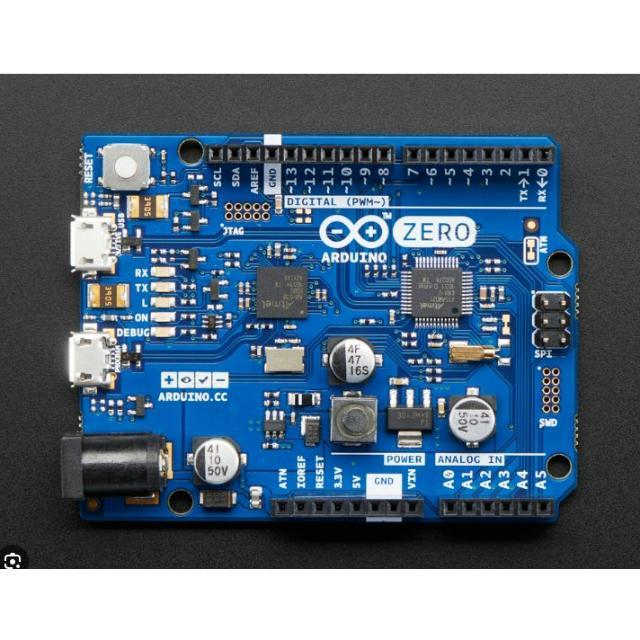Arduino-Zero: (64, 134, 580, 524)
